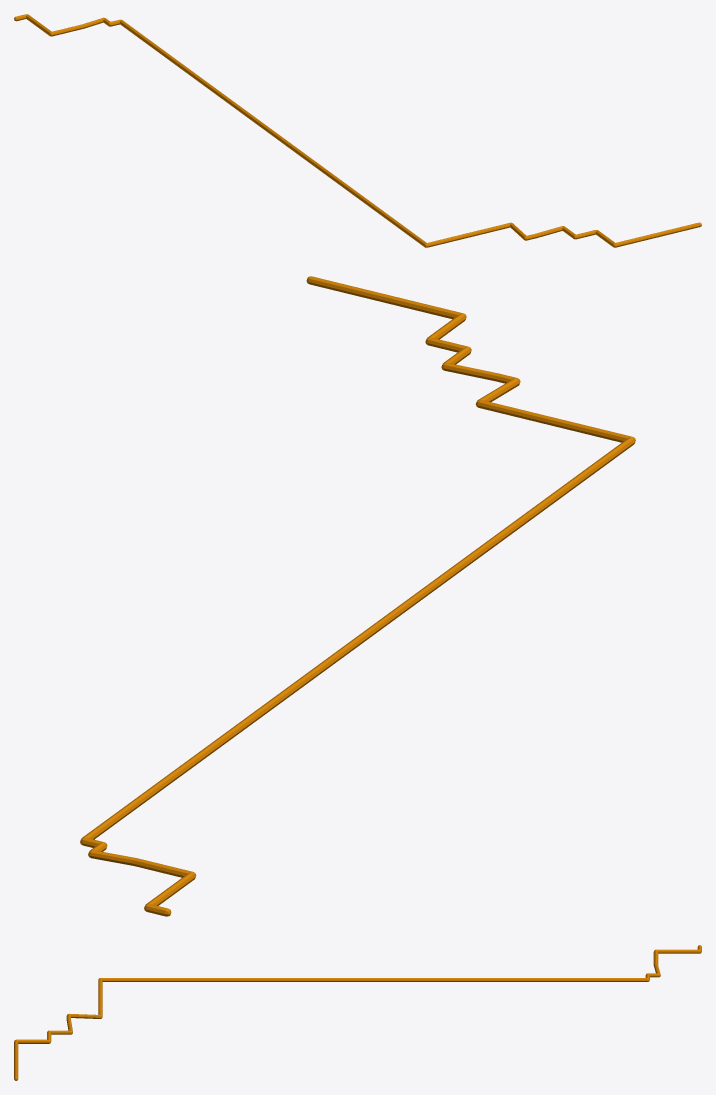
3 views of the same model, one above another, from view 1: azimuth 30°, elevation 25°; view 2: azimuth 150°, elevation 25°; view 3: azimuth 270°, elevation 25° (orthographic). The views are drawn at different scales.
Size of the model in its own units: 1444 by 20 by 3142.
